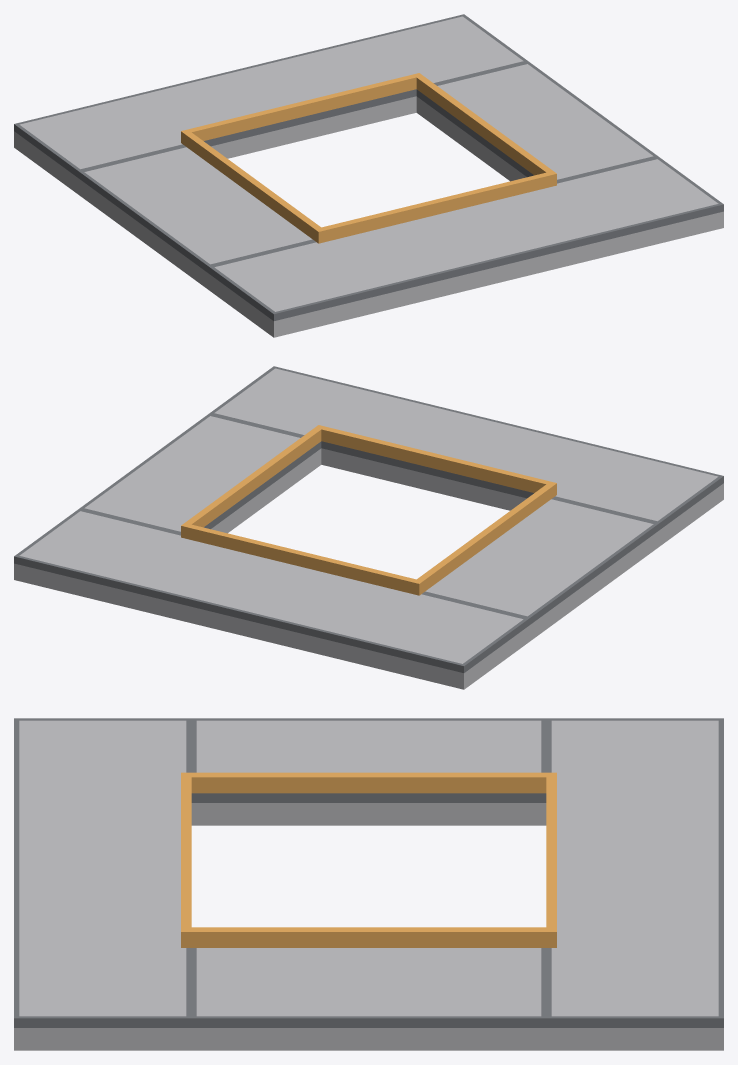
File: modular-greybox-architecture-kit-floor-hole-square-26a51633__22843.glb
3 views of the same model, one above another, from view 1: azimuth 30°, elevation 25°; view 2: azimuth 150°, elevation 25°; view 3: azimuth 270°, elevation 25° (orthographic). The views are drawn at different scales.
Parts seen in each view (by area): view 1: floor-hole-square; view 2: floor-hole-square; view 3: floor-hole-square.
Boxes of the visible parts, x1,y1,x2,y2 form: floor-hole-square: [14, 14, 723, 337]; floor-hole-square: [14, 366, 723, 689]; floor-hole-square: [14, 718, 723, 1050].
Size of the model in its own units: 4 by 0.3 by 4.
